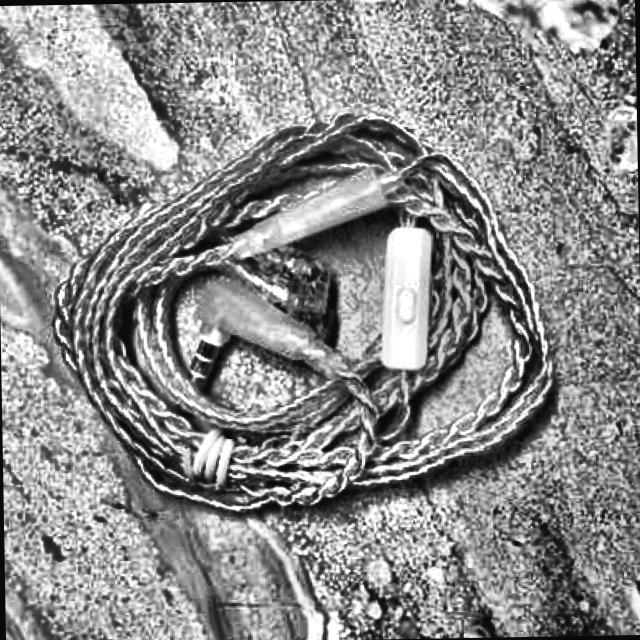Cable: (42, 105, 554, 518)
